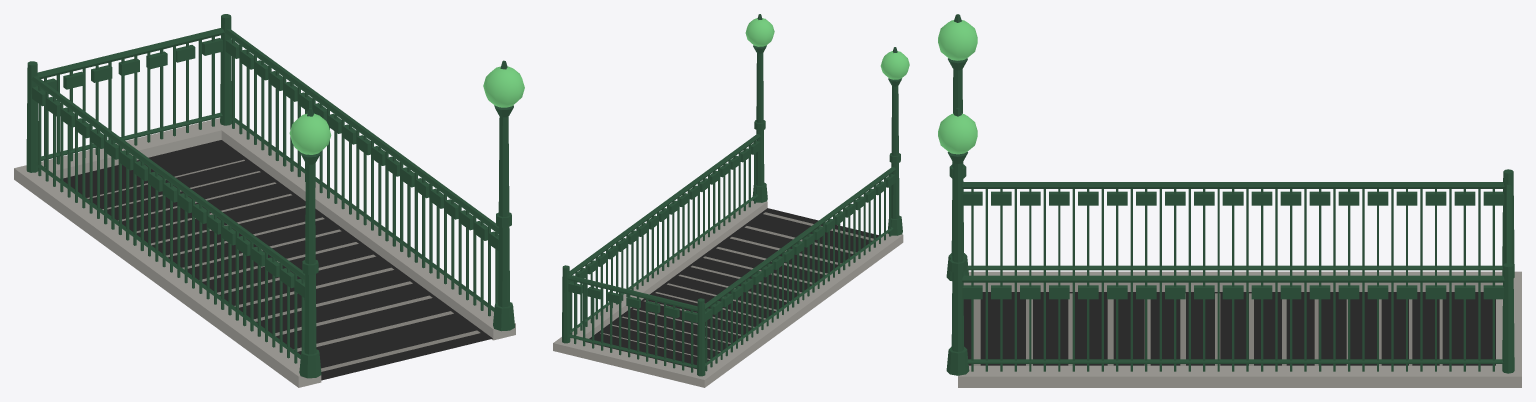
File: nyc_subway_entrance.glb
3 views of the same model, side by side, from view 1: azimuth 30°, elevation 25°; view 2: azimuth 150°, elevation 25°; view 3: azimuth 270°, elevation 25° (orthographic). The views are drawn at different scales.
Visible parts, largest first — view 1: nyc_subway_entrance; view 2: nyc_subway_entrance; view 3: nyc_subway_entrance.
Boxes of the visible parts, box(x1,y1,x2,y2) form: nyc_subway_entrance: box(14, 14, 524, 387); nyc_subway_entrance: box(553, 14, 909, 387); nyc_subway_entrance: box(938, 14, 1521, 387).
Bounding box in the file's own units: 2.54 × 2.92 × 5.64.
Materials: 1 (1 with a texture image).
